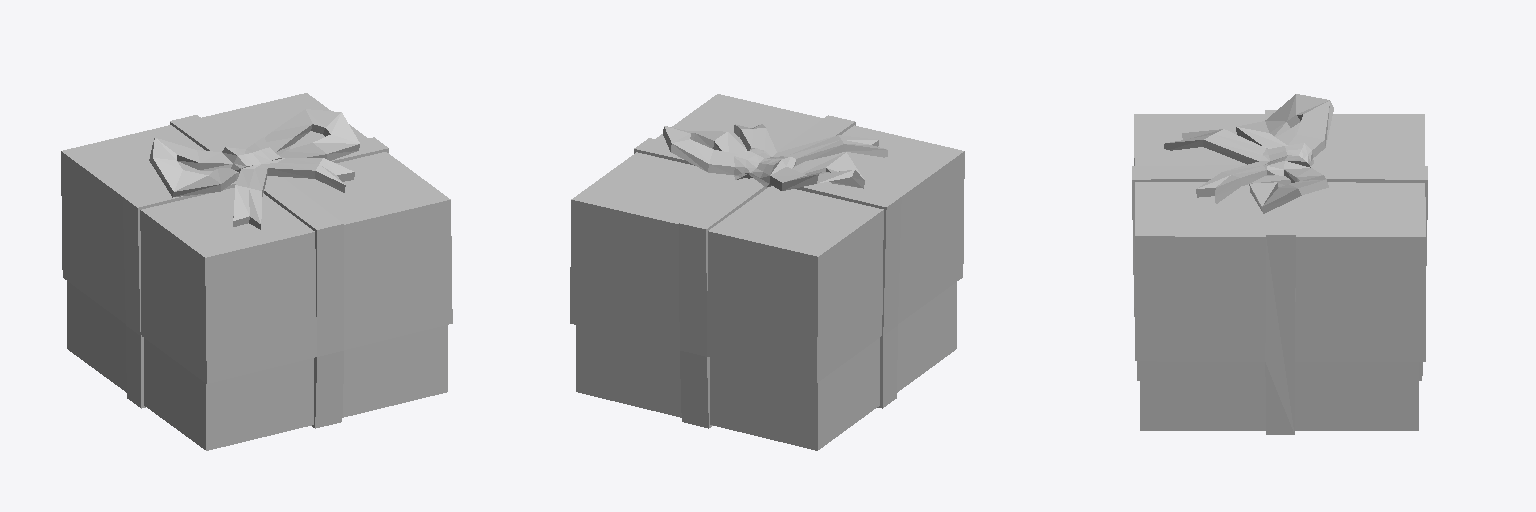
File: PresentBox.obj
3 views of the same model, side by side, from view 1: azimuth 30°, elevation 25°; view 2: azimuth 150°, elevation 25°; view 3: azimuth 270°, elevation 25° (orthographic).
Visible parts, largest first — view 1: Present; view 2: Present; view 3: Present.
Boxes of the visible parts, x1=… form: Present: x1=61, y1=93, x2=452, y2=450; Present: x1=570, y1=94, x2=964, y2=450; Present: x1=1132, y1=94, x2=1427, y2=434.
Bounding box in the file's own units: 2.09 × 1.88 × 2.13.